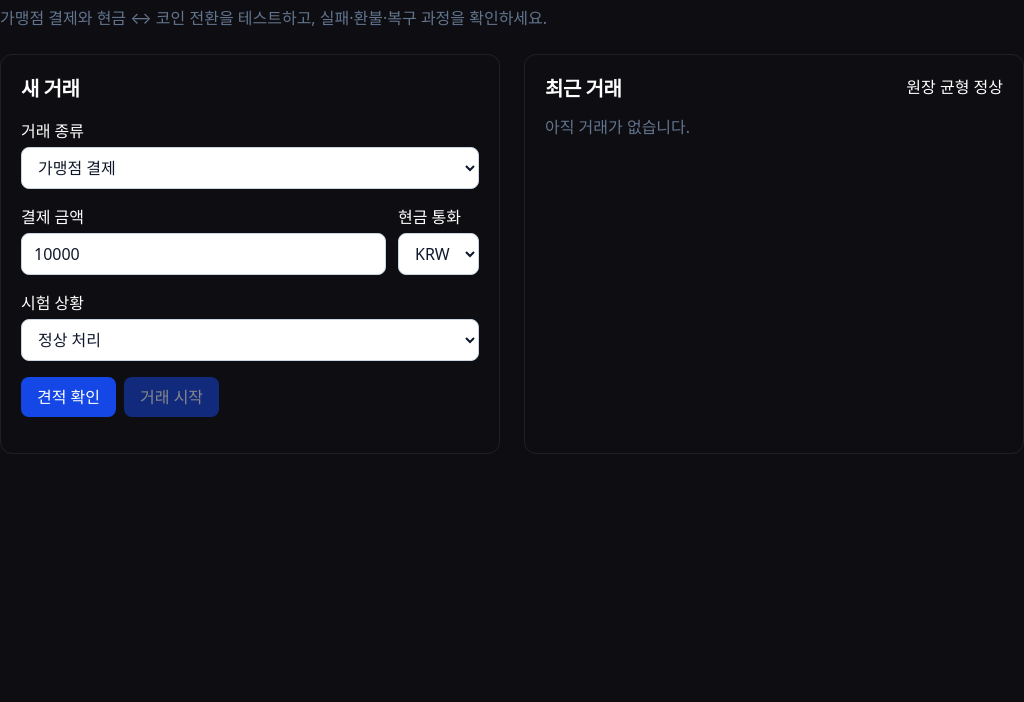
Test: payment lab › preserves the original key after an uncertain response and retries the same order
The width and height of the screenshot is (1024, 702).
Click the button "견적 확인" at [68, 397], box x1=21 y1=377 x2=116 y2=417
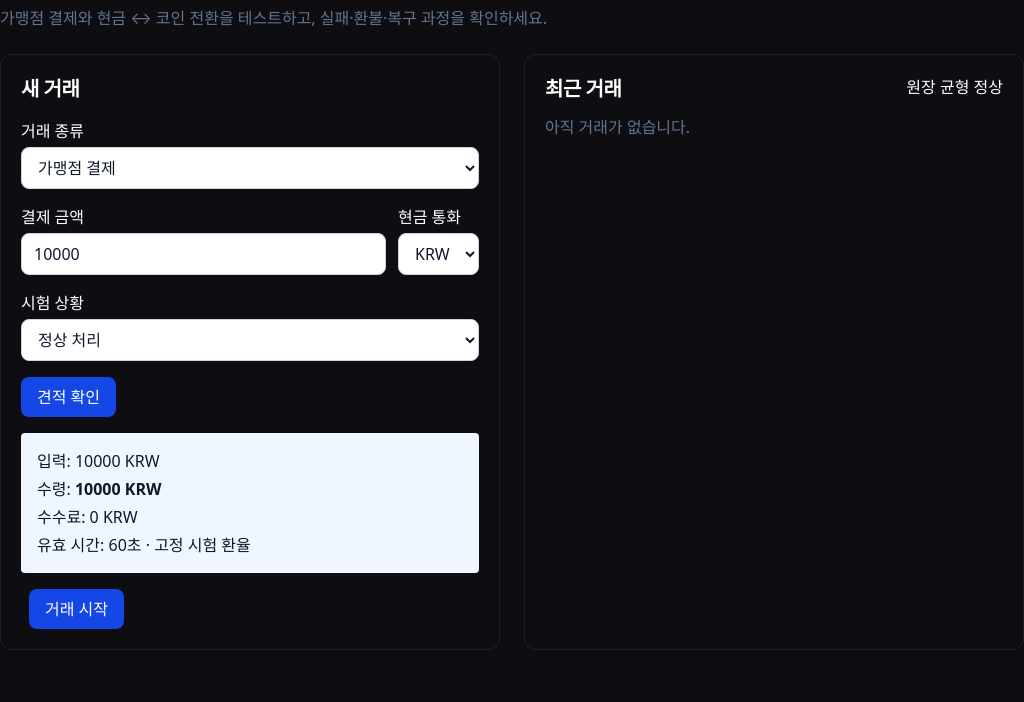
Result: the text "수수료: 0 KRW" is shown at x1=37 y1=506 x2=138 y2=528
Click the button "거래 시작" at [76, 609], box x1=29 y1=589 x2=124 y2=629
(page scrolled)
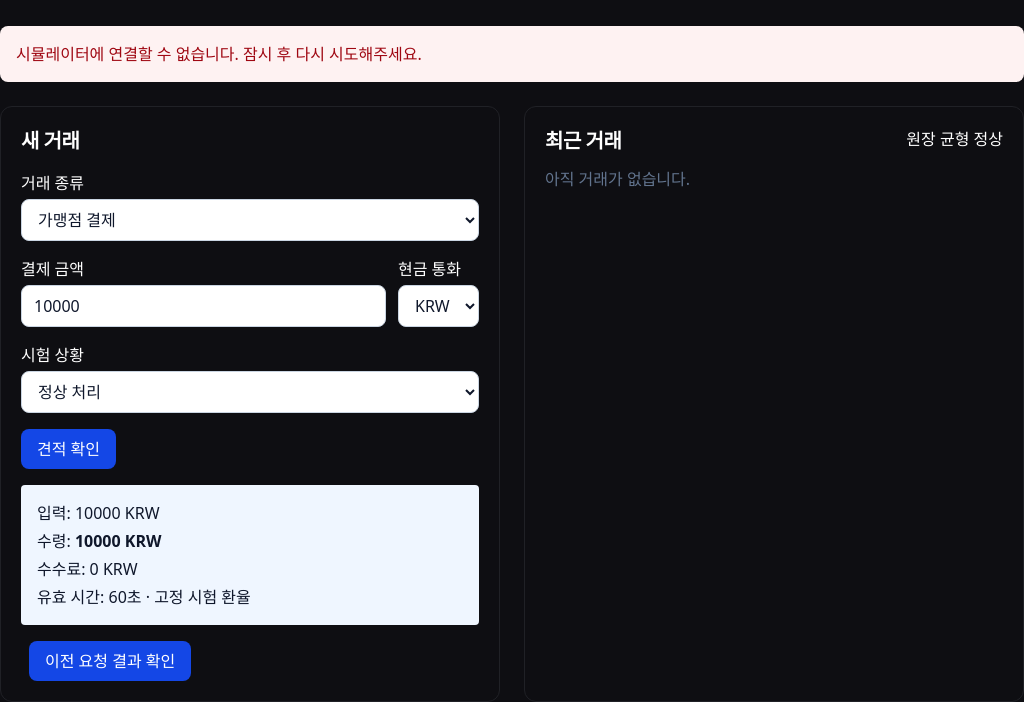
Result: the message "시뮬레이터에 연결할 수 없습니다. 잠시 후 다시 시도해주세요." is shown at x1=0 y1=26 x2=1023 y2=82
Click the button "이전 요청 결과 확인" at [110, 661], box x1=29 y1=641 x2=191 y2=681
(page scrolled)
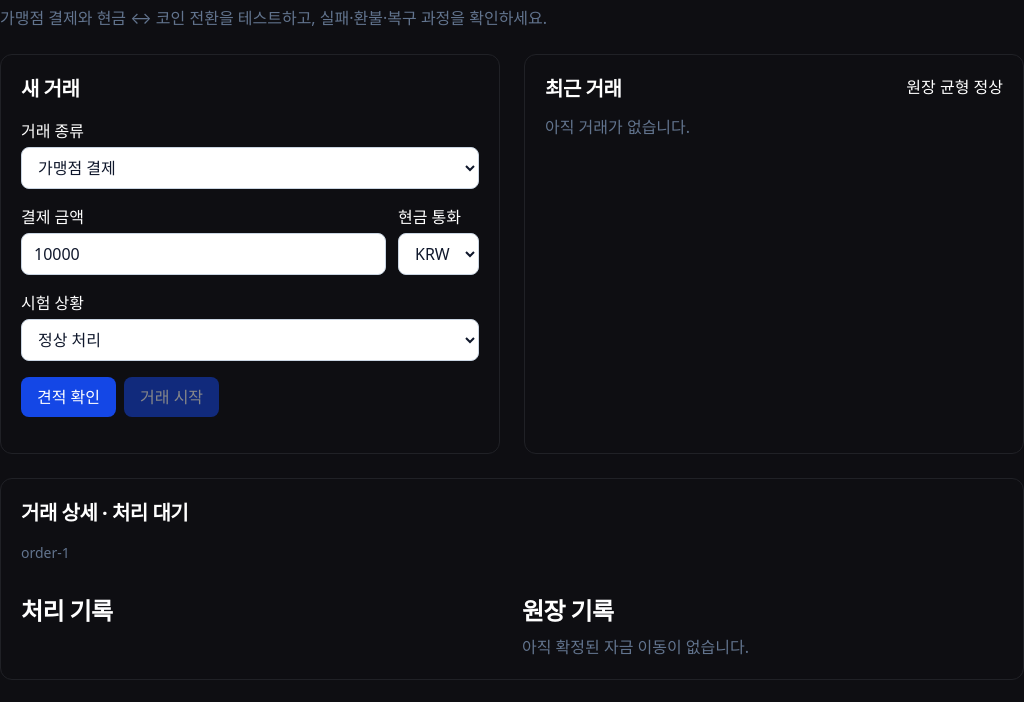
Result: the heading "거래 상세 · 처리 대기" is shown at x1=21 y1=499 x2=188 y2=526
